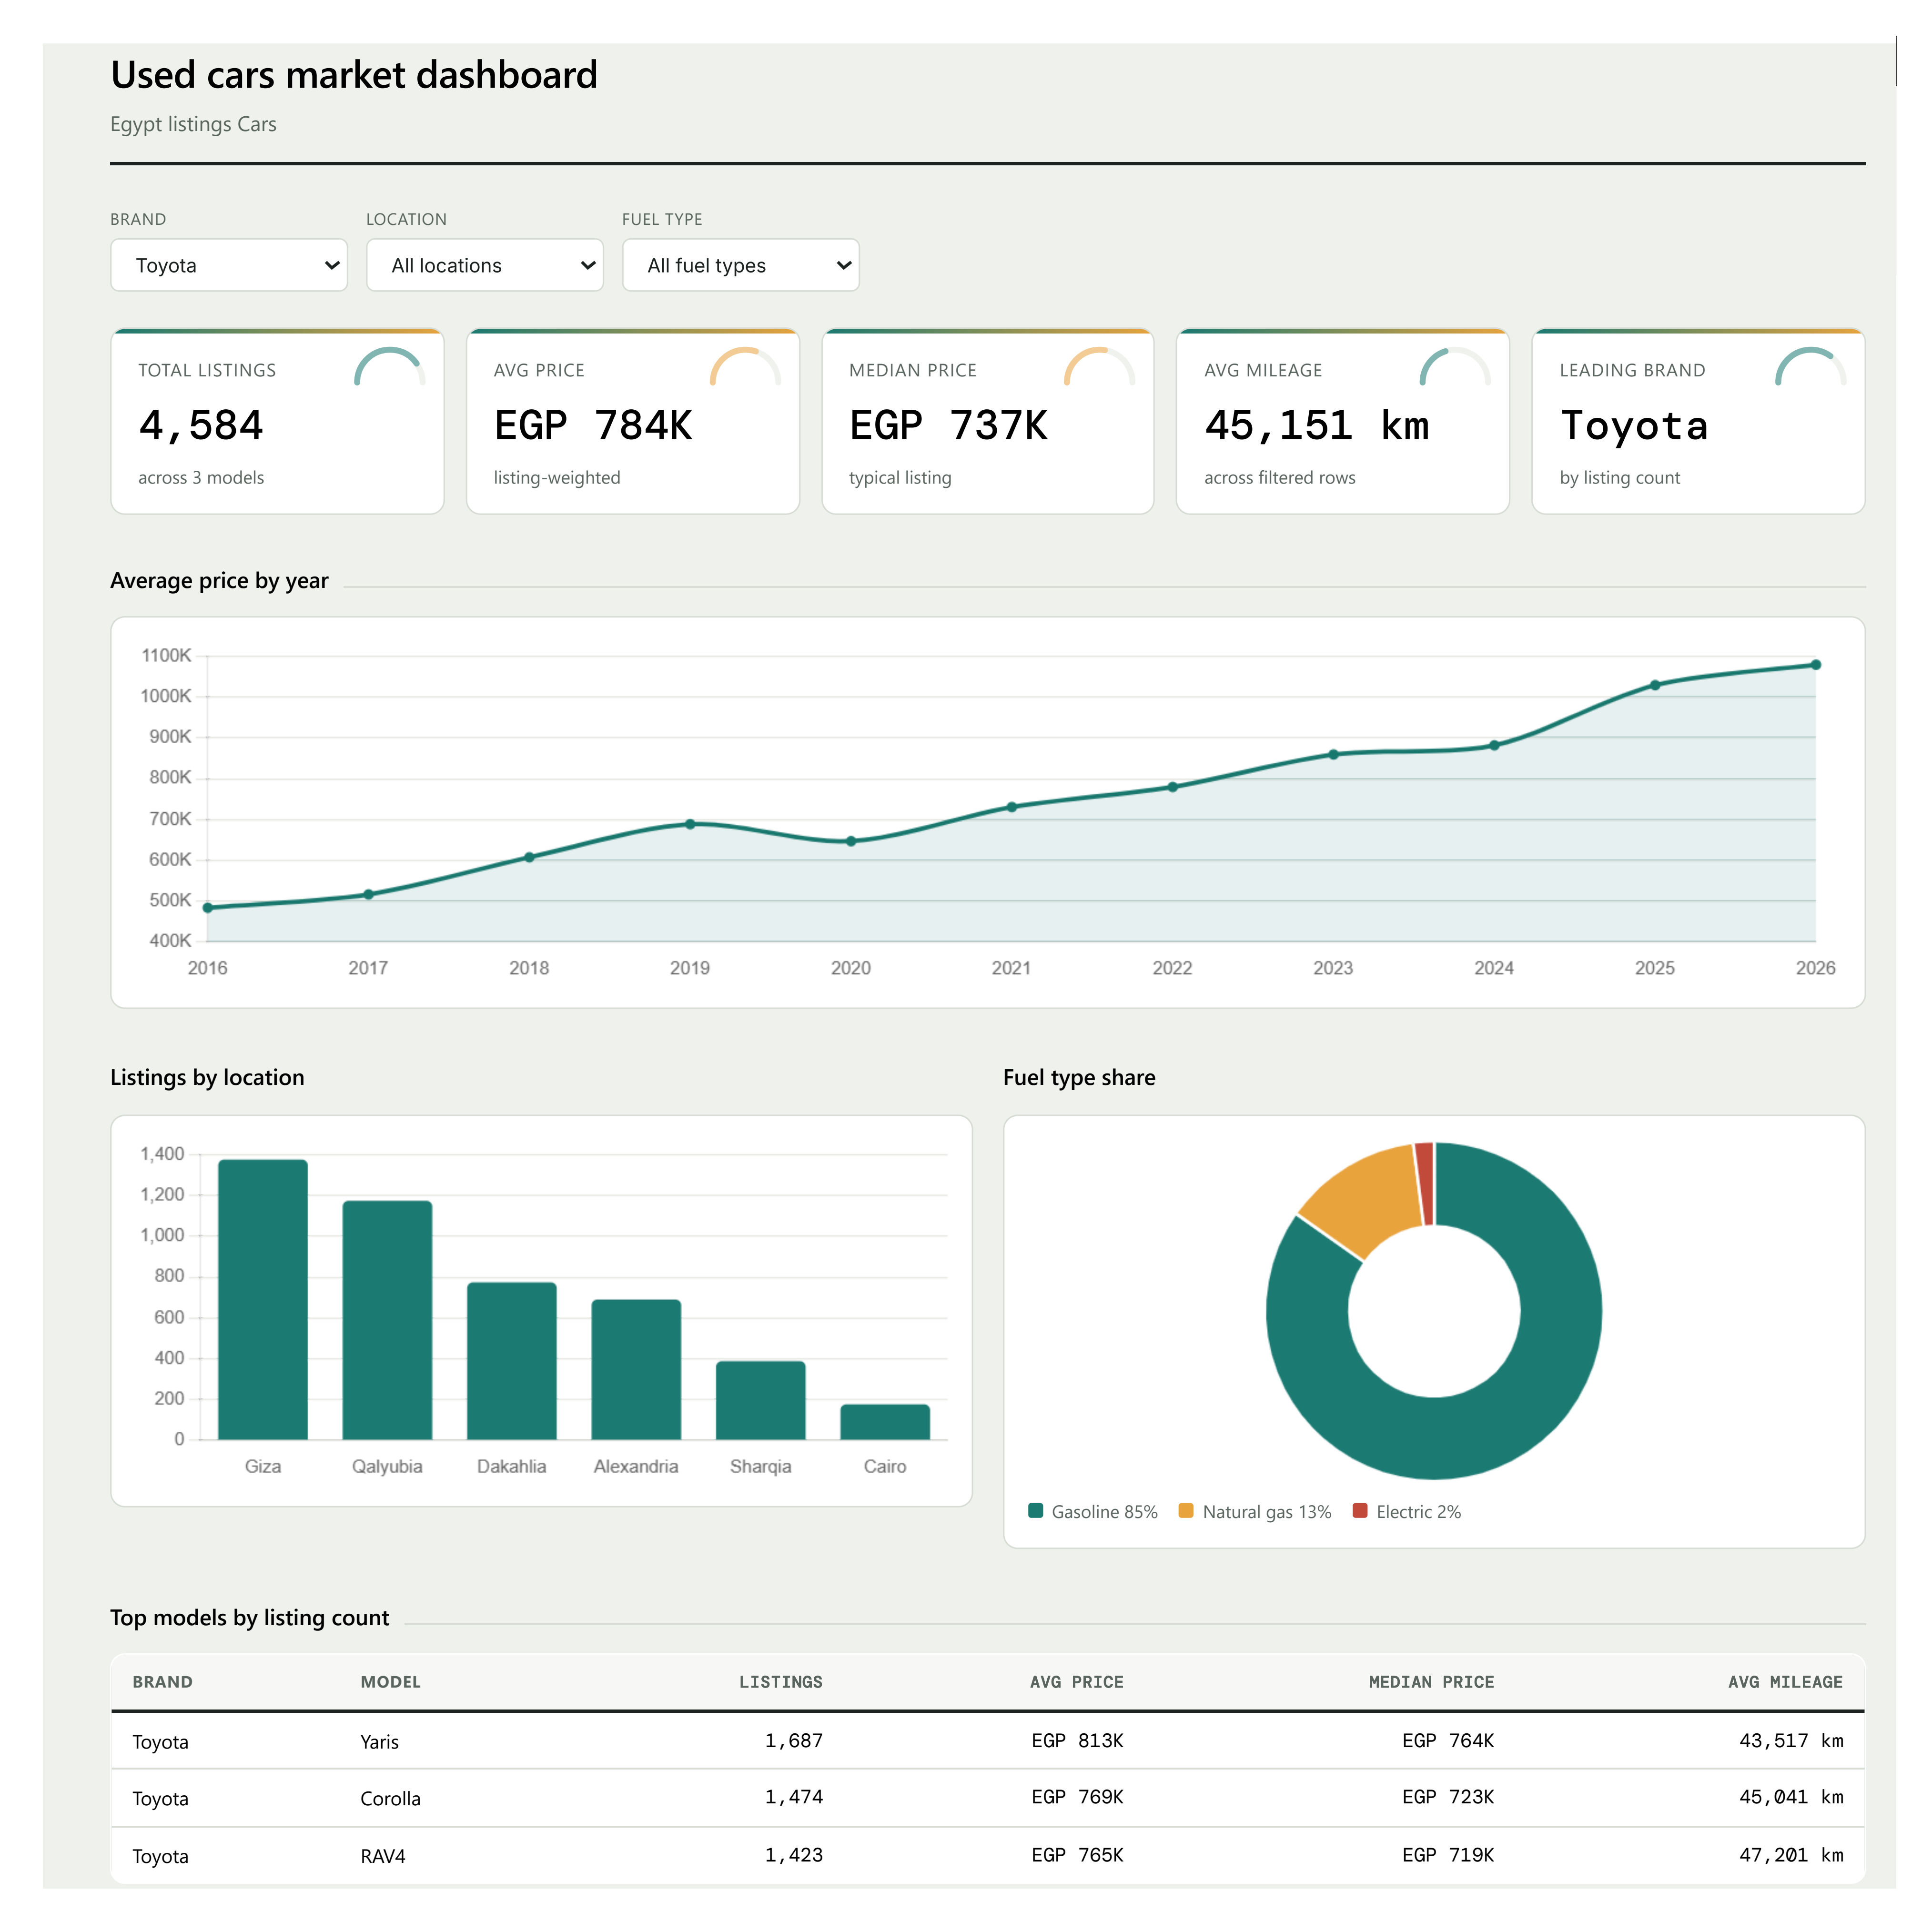

The page's visual inventory and layout, read from the dashboard file:
{"tool":"powerbi","page":{"name":"Page 1","canvas":[1280,720],"ordinal":0},"visuals":[{"type":"htmlContent443BE3AD55E043BF878BED274D3A6855","fields":{"content":["gold_fuel_transmission.UsedCarDashboardHTML"]},"box":[0,0,1280,720],"z":0}]}

Visuals, with their boxes on the page's 1280x720 design canvas (x1, y1, x2, y2). These are canvas units, not pixel positions in the 1932x1932 screenshot, which may show the page scaled, cropped or inside an application window:
htmlContent443BE3AD55E043BF878BED274D3A6855 - gold_fuel_transmission.UsedCarDashboardHTML: <bbox>0, 0, 1280, 720</bbox>
